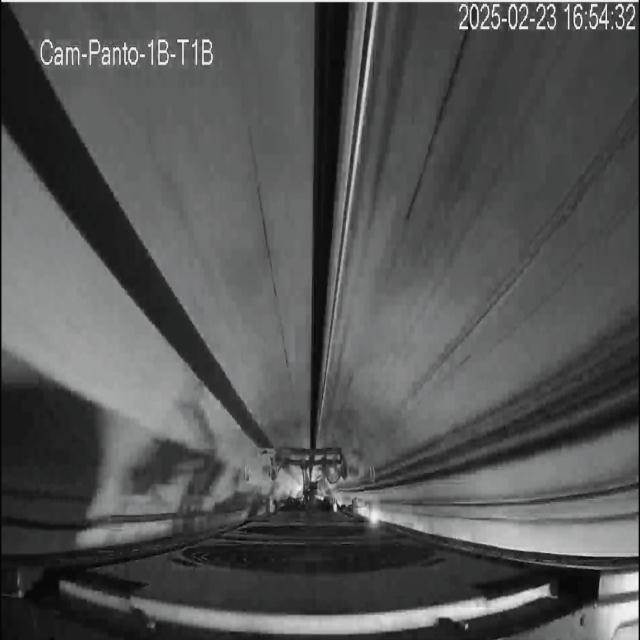Camera Stamp: (36, 28, 221, 70)
Date Stamp: (455, 2, 634, 34)
No - Spark: (250, 444, 371, 519)
